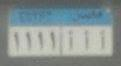1: (13, 31, 21, 54), (37, 32, 46, 51), (25, 31, 33, 52), (50, 30, 56, 52)
alif: (97, 29, 107, 51), (82, 30, 90, 52), (67, 30, 75, 51)
